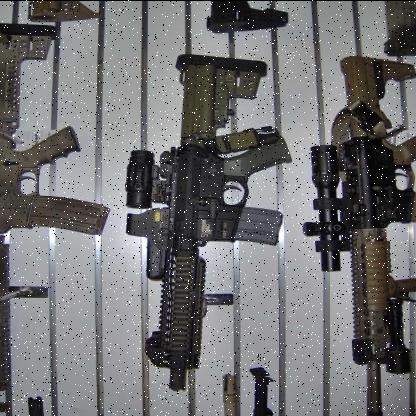rifle: (128, 39, 304, 409), (299, 38, 415, 416)
